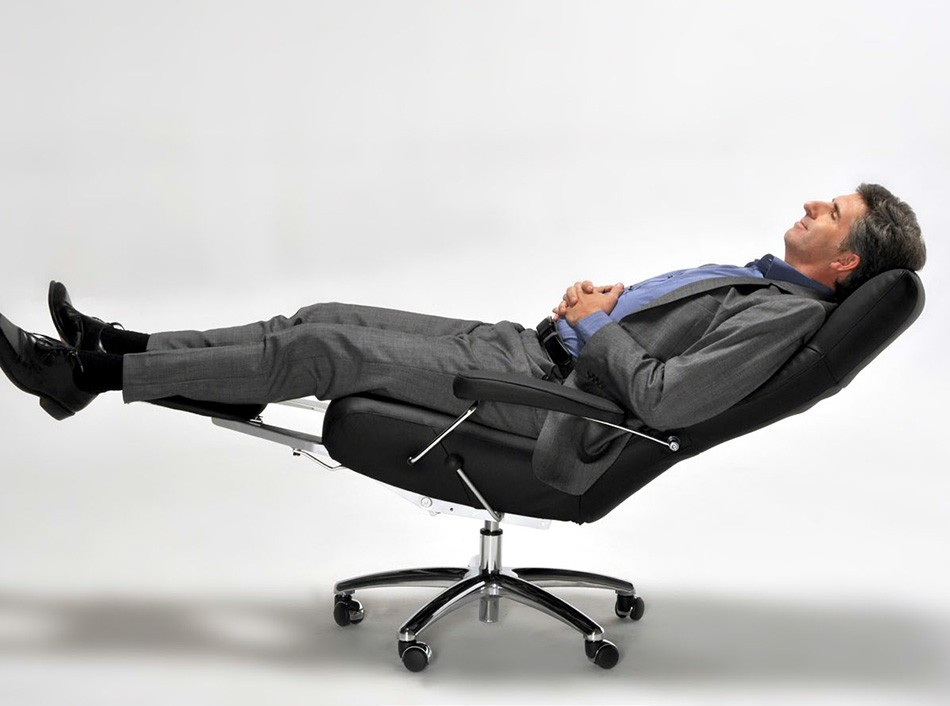chairs: (55, 268, 938, 676)
